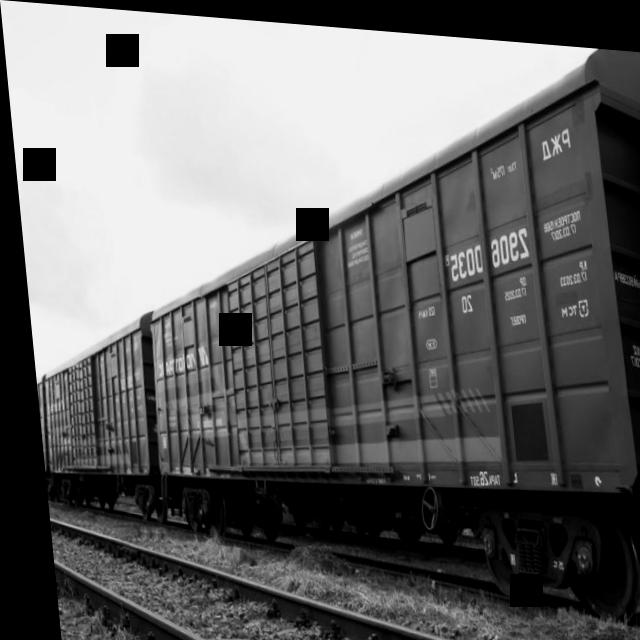boxcar: (110, 7, 640, 633), (25, 287, 157, 532)
